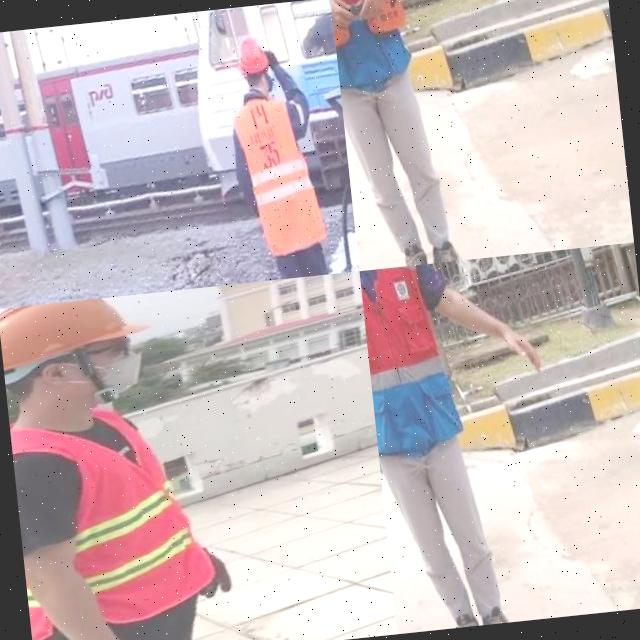boots: (472, 594, 528, 626), (424, 230, 476, 264), (391, 237, 436, 267), (441, 604, 488, 629)
helmet: (0, 292, 164, 384), (229, 32, 272, 79)
vest: (7, 388, 222, 640), (359, 261, 472, 463), (224, 84, 334, 266), (330, 0, 419, 90)
